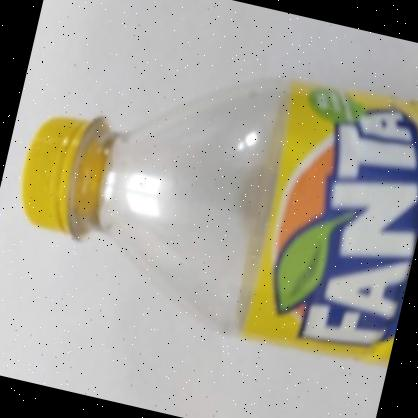bottle: (0, 21, 418, 370)
cap: (15, 99, 112, 240)
label: (229, 52, 418, 368)
